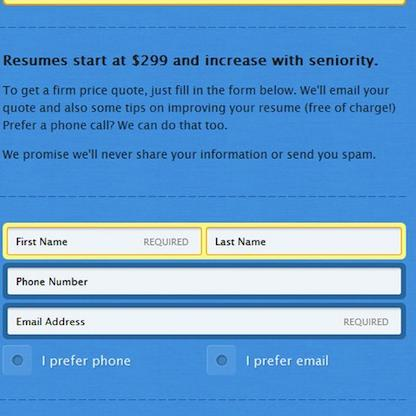field: (3, 262, 407, 299), (4, 303, 406, 340), (1, 221, 204, 259), (204, 222, 405, 260)
radio: (2, 345, 35, 376), (206, 345, 237, 373)
radio_with_label: (0, 344, 133, 378), (203, 343, 329, 376)
